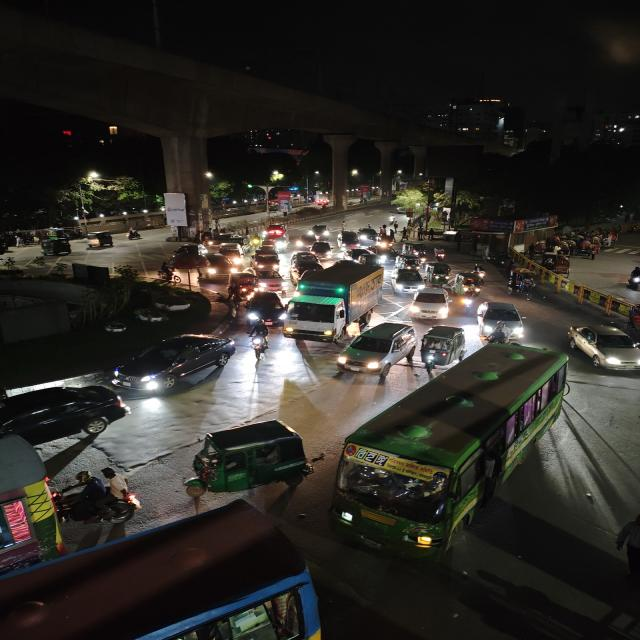bus: (330, 330, 569, 560), (0, 428, 62, 588)
car: (0, 382, 129, 460), (109, 330, 235, 396), (332, 320, 417, 380), (564, 320, 640, 374), (473, 299, 528, 340), (406, 286, 455, 321), (243, 300, 286, 328), (389, 267, 426, 295), (288, 251, 324, 271), (203, 258, 234, 281), (263, 230, 291, 250), (218, 243, 243, 265), (336, 230, 363, 250), (310, 241, 336, 259), (358, 225, 380, 246), (307, 222, 332, 240)
cng: (182, 418, 313, 502), (417, 324, 467, 374), (224, 272, 260, 300), (37, 236, 73, 258), (426, 261, 453, 284), (85, 230, 116, 250), (396, 254, 421, 270)
motorcycle: (62, 463, 141, 531), (246, 320, 272, 360), (455, 274, 482, 298), (123, 226, 145, 242), (472, 263, 489, 283), (432, 246, 448, 262)
pedestrian: (613, 502, 640, 598)
pickup_van: (249, 252, 281, 271)
rickshaw: (505, 269, 538, 298), (548, 252, 576, 280)
truck: (283, 262, 386, 343)
